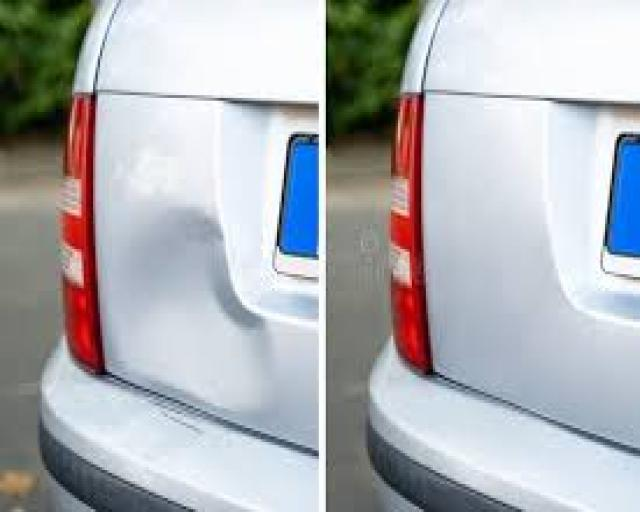dent: (100, 191, 284, 421)
